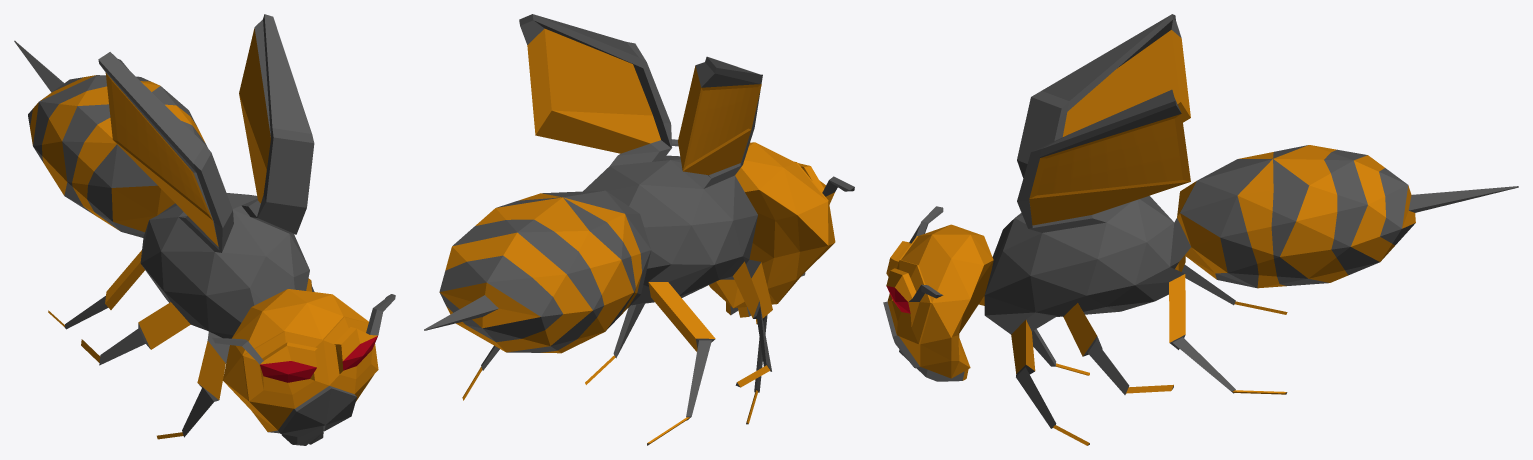
The model's file is Hornet2.fbx.
The picture shows the model from 3 angles, left to right: view 1: azimuth 30°, elevation 25°; view 2: azimuth 150°, elevation 25°; view 3: azimuth 270°, elevation 25°; orthographic projection. The views are drawn at different scales.
Parts seen in each view (by area): view 1: Icosphere; view 2: Icosphere; view 3: Icosphere.
Boxes of the visible parts, left/top/right/bottom form: Icosphere: left=14, top=14, right=395, bottom=445; Icosphere: left=424, top=14, right=854, bottom=445; Icosphere: left=883, top=14, right=1518, bottom=445.
Size of the model in its own units: 334 by 512 by 822.
